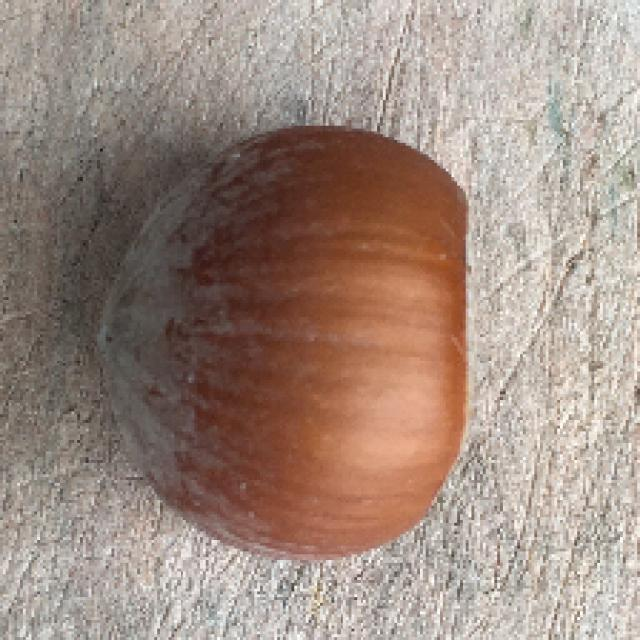qualityHazelnut: (91, 120, 484, 564)
